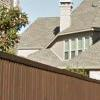Chimney: (56, 2, 78, 31)
